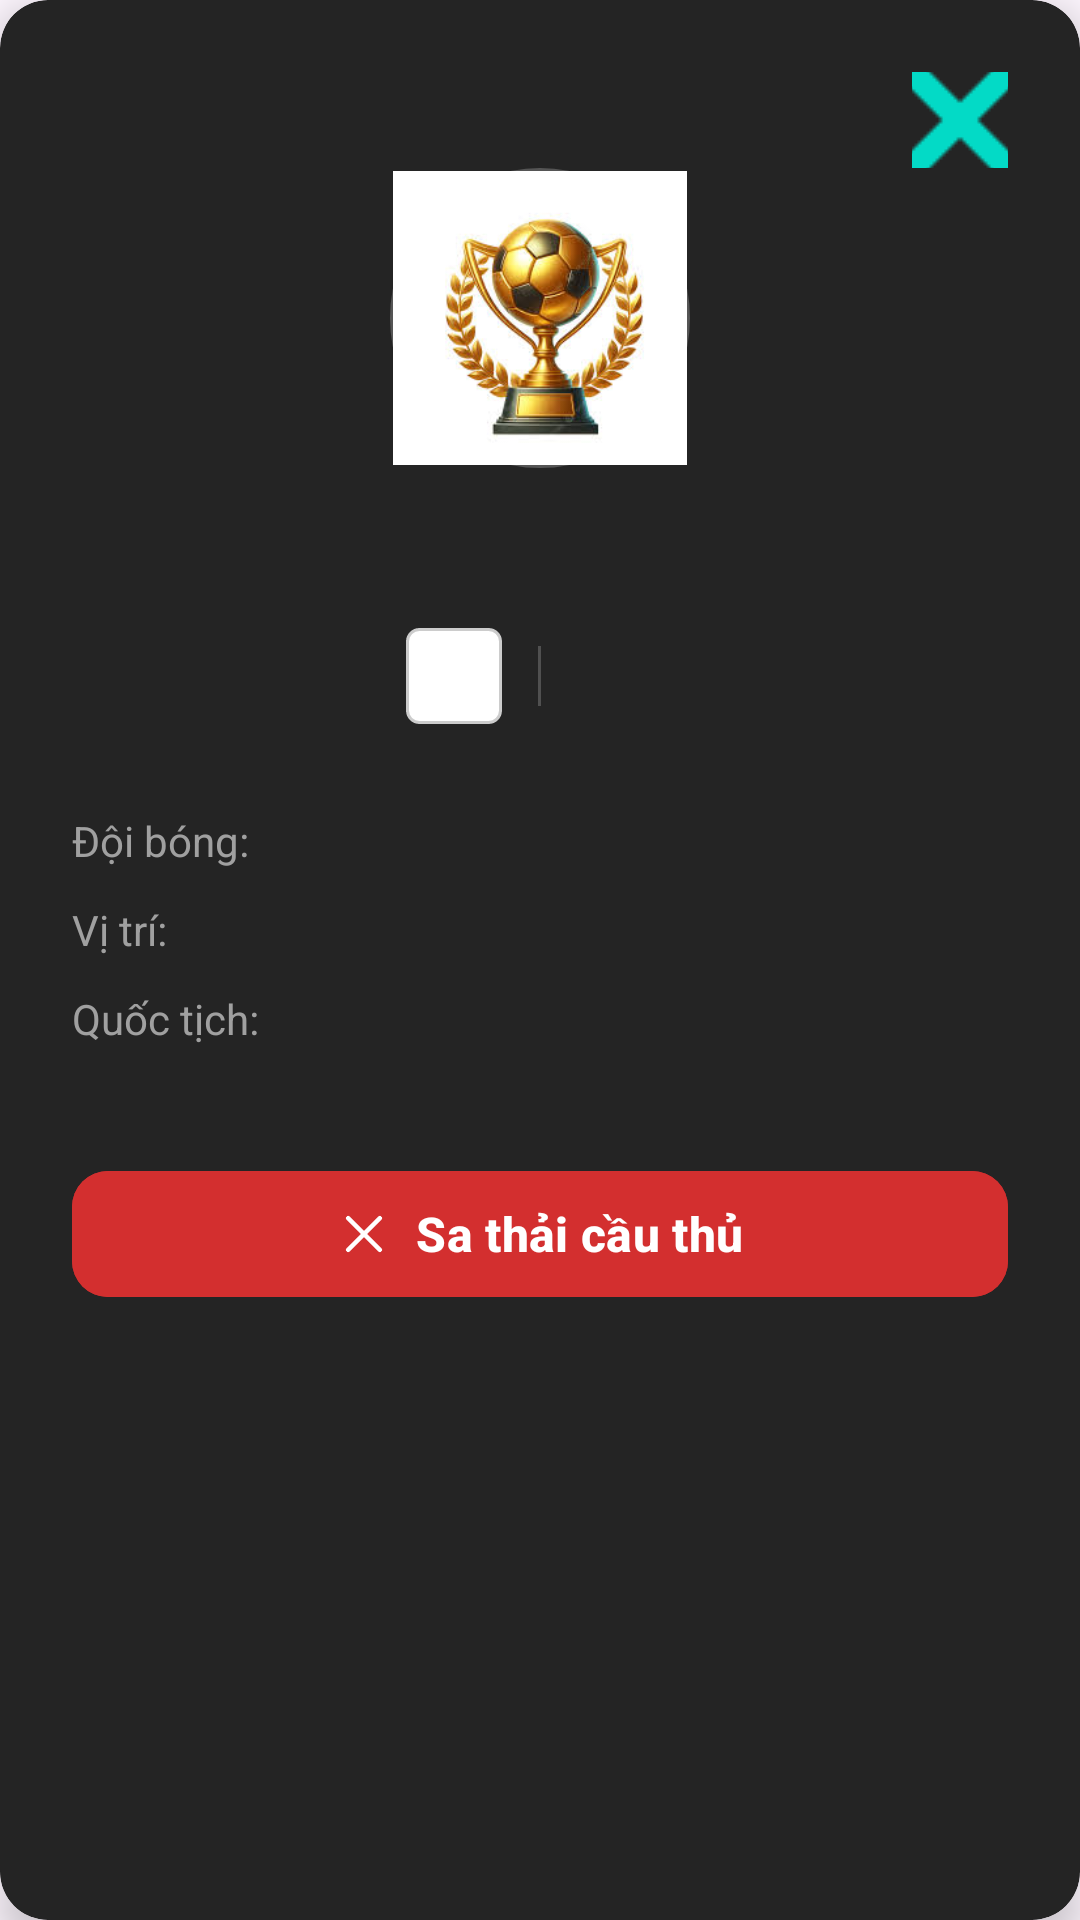

Where icons sit on this 1080 x 1920 app screen, as bbox=(x1, y1, x2, y2):
Đóng: bbox=(912, 72, 1008, 168)
